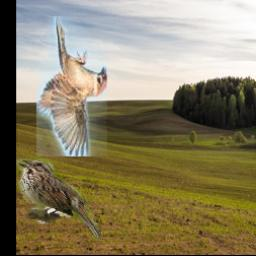Sparrow: (36, 16, 107, 156), (16, 157, 101, 241)
